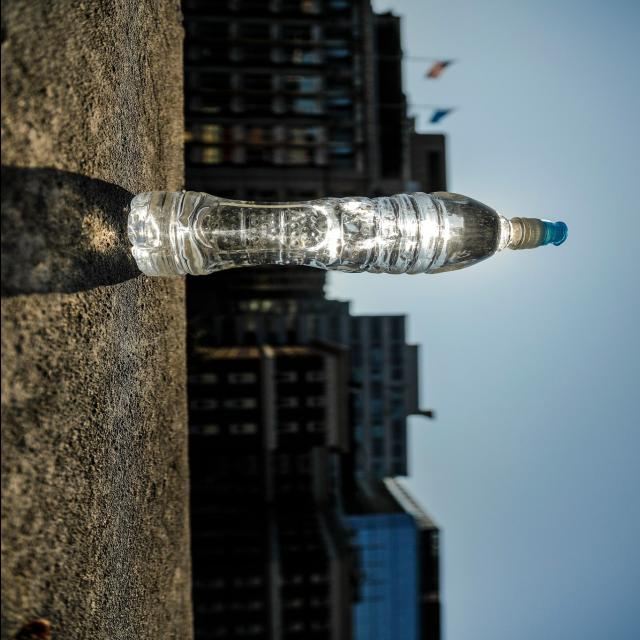bottom: (120, 182, 207, 288)
cap: (491, 209, 577, 257)
